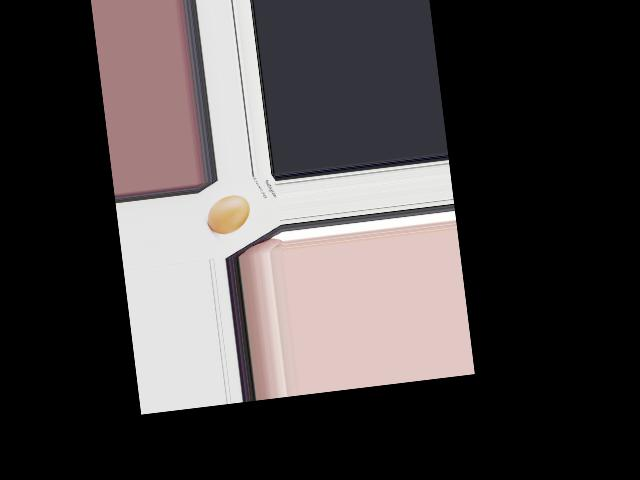egg: (204, 194, 252, 236)
